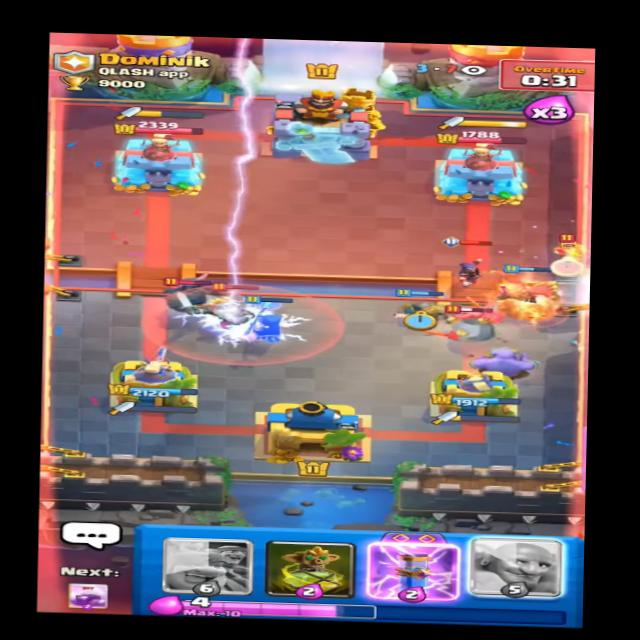Evowizard: (434, 239, 499, 281)
Pekka: (151, 270, 227, 318), (430, 303, 510, 348)
Royalghost: (187, 283, 261, 337)
Wizard: (538, 229, 598, 271)
Zap: (211, 35, 269, 302), (184, 293, 296, 346)
